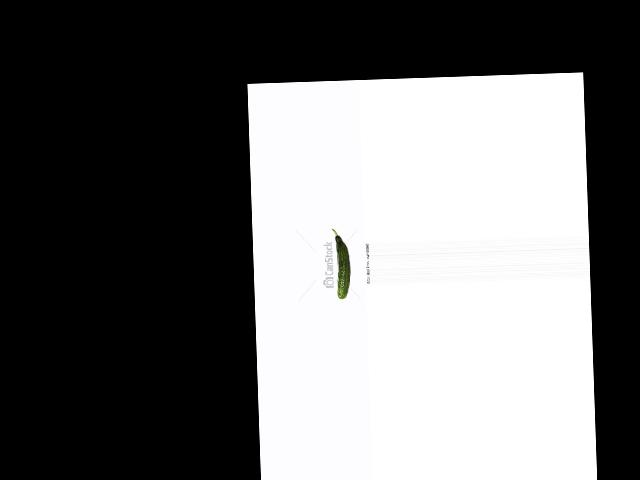cucumber: (332, 227, 351, 298)
